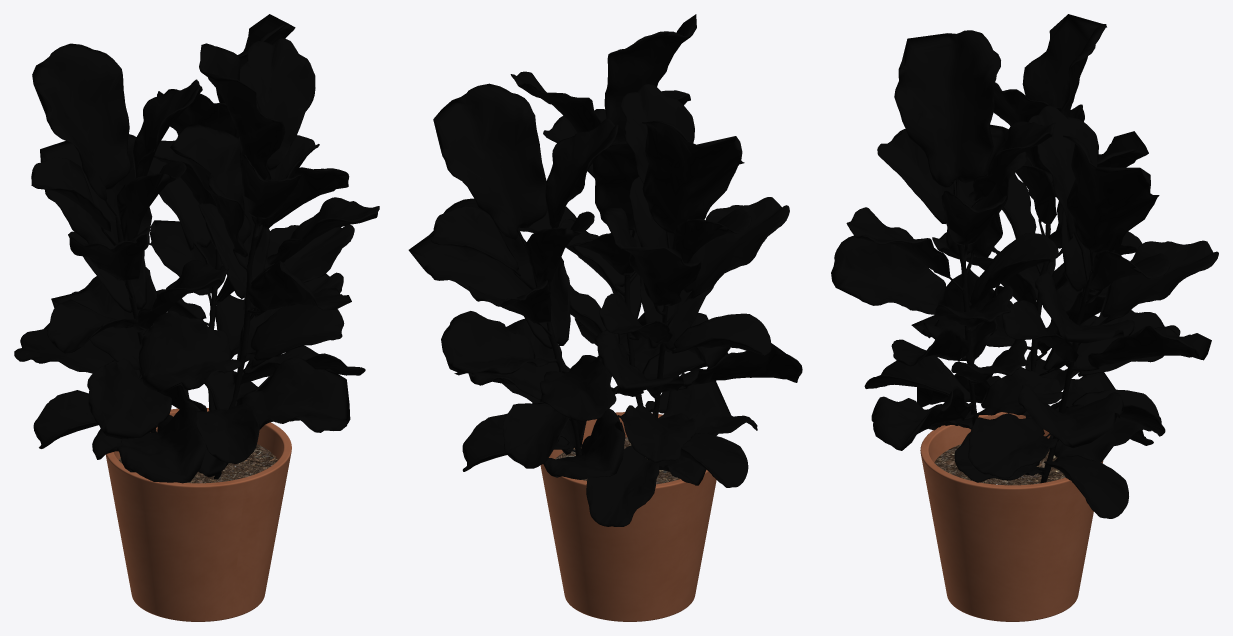
File: plant.fbx
3 renders of one model, left to right at view 1: azimuth 30°, elevation 25°; view 2: azimuth 150°, elevation 25°; view 3: azimuth 270°, elevation 25°, orthographic. The views are drawn at different scales.
Parts seen in each view (by area): view 1: PlantBanjoFig001; view 2: PlantBanjoFig001; view 3: PlantBanjoFig001.
Boxes of the visible parts, x1=… form: PlantBanjoFig001: x1=14, y1=14, x2=379, y2=621; PlantBanjoFig001: x1=408, y1=14, x2=802, y2=621; PlantBanjoFig001: x1=831, y1=14, x2=1218, y2=621.
Size of the model in its own units: 80.29 by 135 by 85.25.
